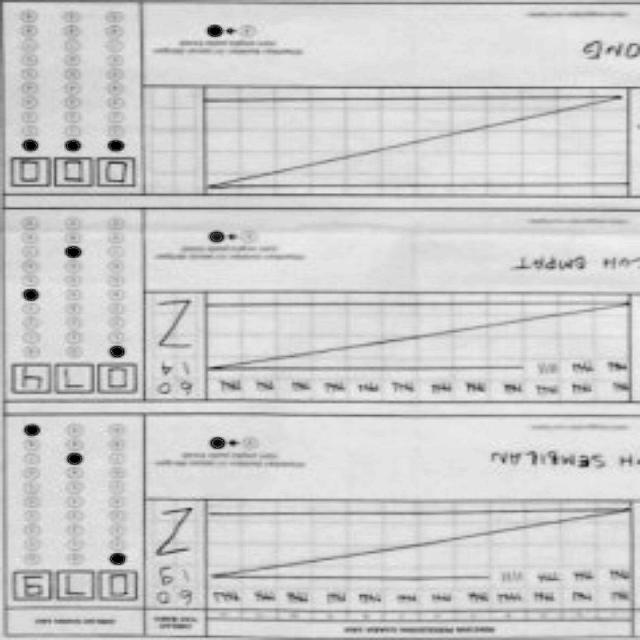Suara: (6, 151, 140, 189), (9, 360, 143, 398), (10, 570, 144, 607)
